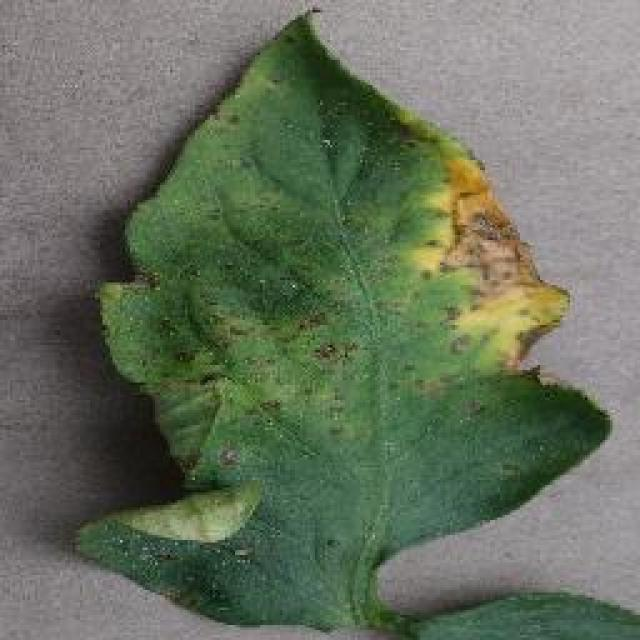Tomato___Bacterial_spot: (69, 8, 638, 638)
